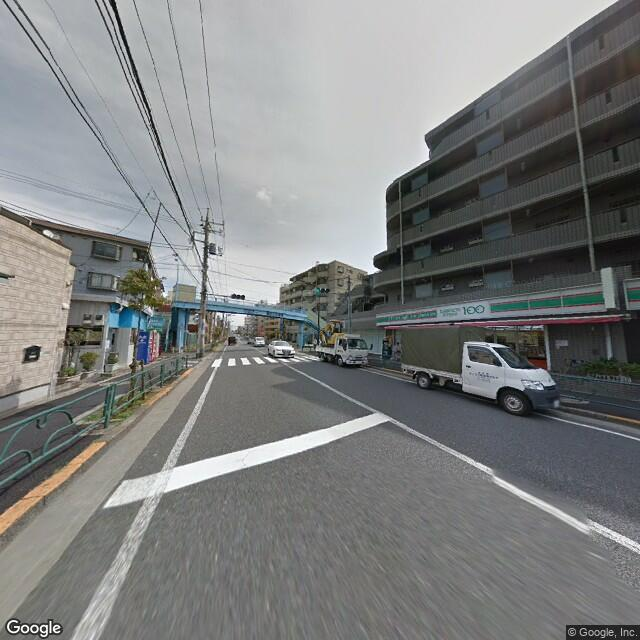lawson: (377, 279, 608, 332)
